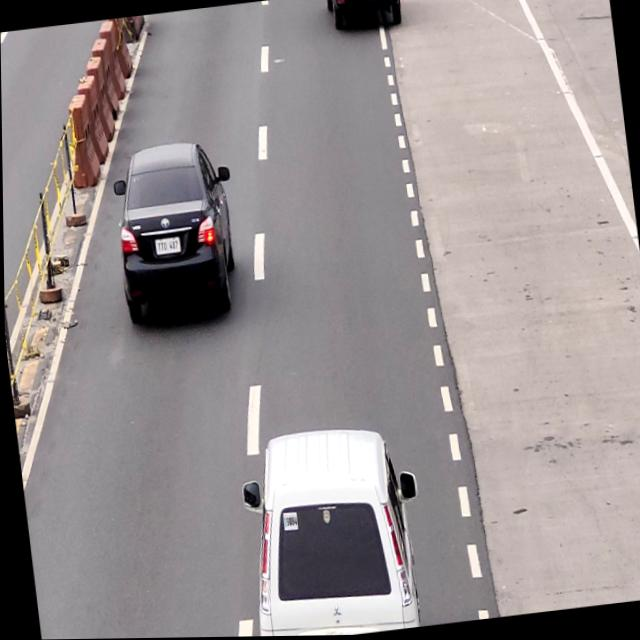Car: (235, 423, 421, 637), (110, 138, 237, 325)
License-Plate: (151, 234, 182, 255)
